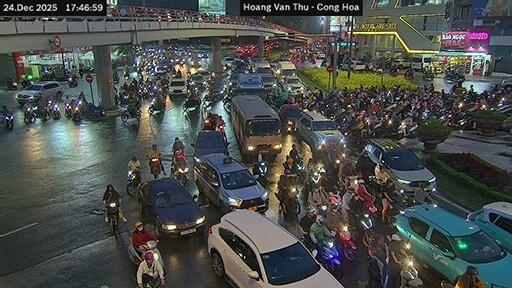motorbike: (313, 238, 342, 279), (397, 241, 422, 287), (128, 239, 163, 266), (275, 187, 300, 223), (339, 225, 355, 260), (368, 248, 384, 278), (105, 201, 118, 234), (396, 117, 416, 138), (252, 160, 268, 184), (173, 163, 188, 185), (125, 170, 138, 194), (294, 157, 306, 180), (32, 106, 50, 120), (121, 108, 140, 121), (85, 104, 105, 116), (70, 100, 80, 121), (150, 157, 160, 178), (147, 99, 163, 112), (0, 112, 12, 129), (48, 100, 60, 117), (182, 99, 198, 111), (24, 107, 35, 121), (19, 77, 32, 88), (217, 125, 226, 140), (441, 279, 454, 287), (6, 79, 16, 89), (64, 102, 70, 117), (67, 76, 76, 85), (422, 72, 432, 80), (403, 71, 412, 79), (112, 71, 118, 82), (389, 67, 397, 75), (122, 70, 128, 79)
